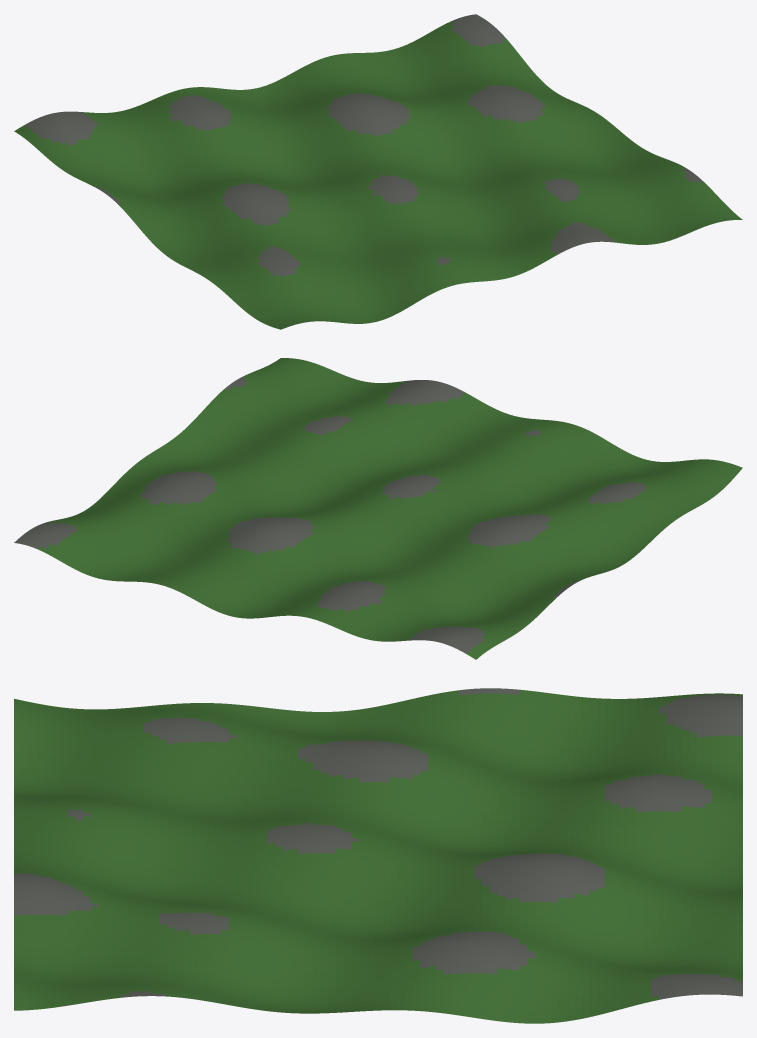
File: pine_highlands_tile.obj
The picture shows the model from 3 angles, top to bottom: view 1: azimuth 30°, elevation 25°; view 2: azimuth 150°, elevation 25°; view 3: azimuth 270°, elevation 25°; orthographic projection. The views are drawn at different scales.
Bounding box in the file's own units: 190 × 11.97 × 190.
